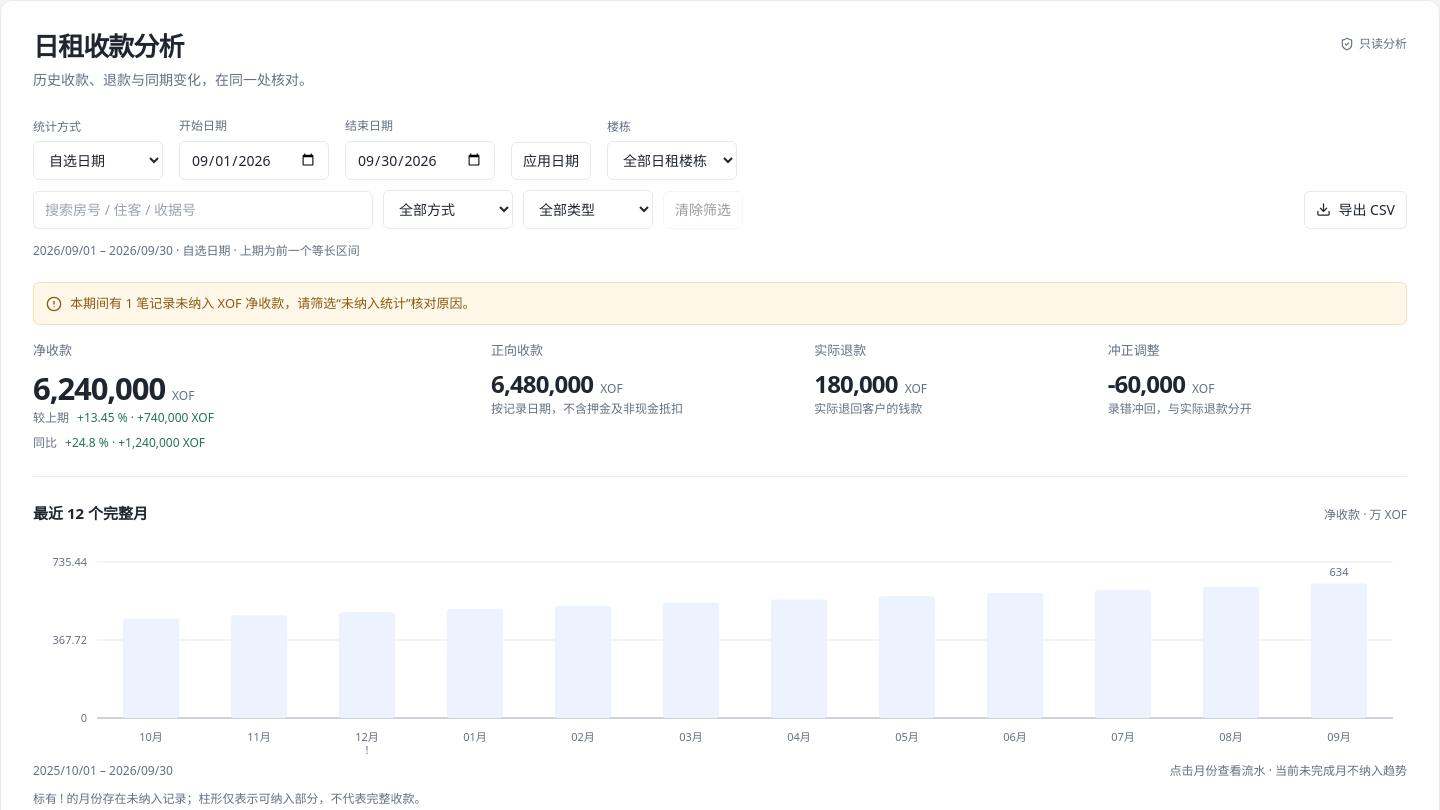
Test case: daily receipt history UI › retains a valid month when changing from a custom period back to monthly mode
Select "按月查看" in the dropdown labelled "统计方式". click: (98, 161)
box: x1=33 y1=141 x2=163 y2=180
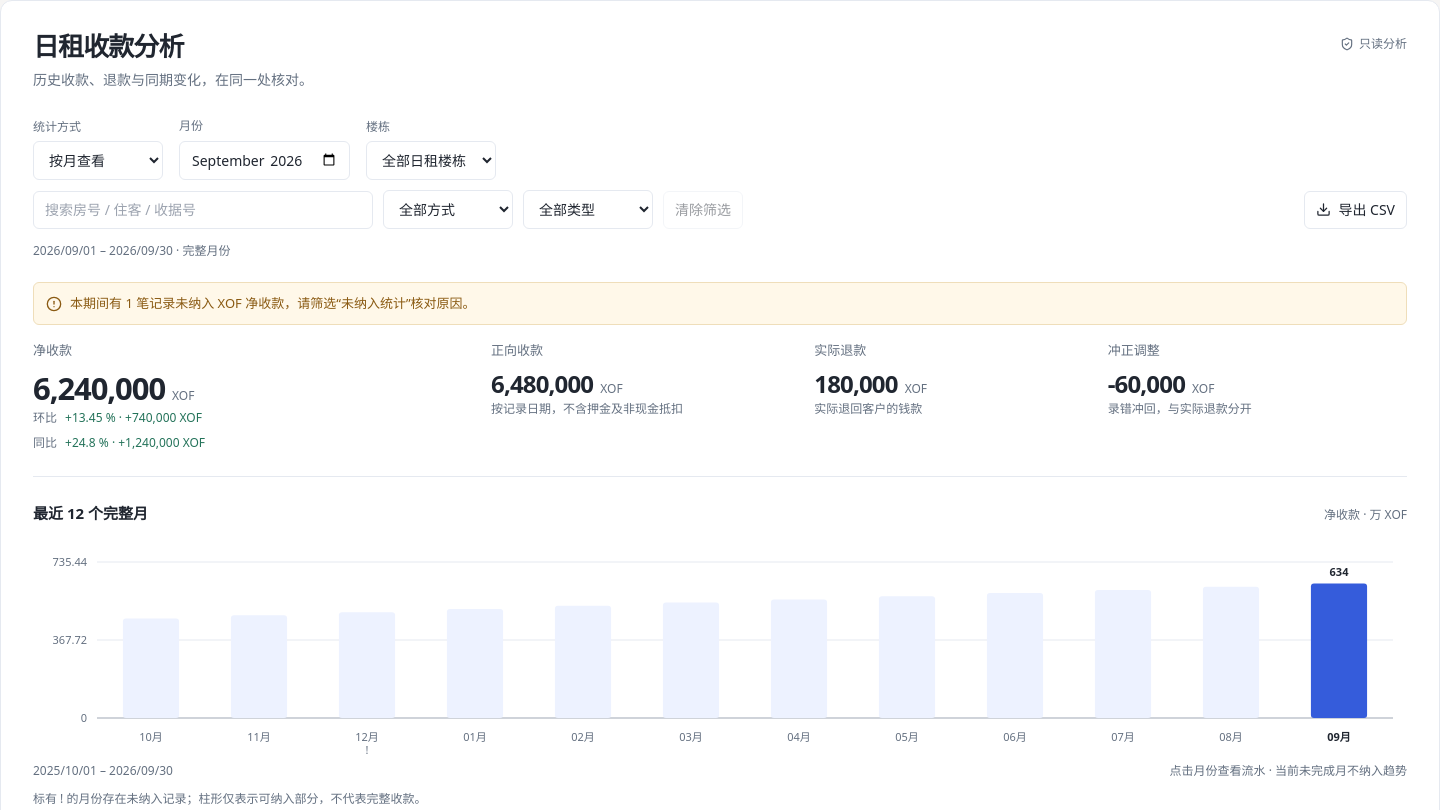
Now the field labelled "月份" holds "2026-09", box x1=179 y1=141 x2=350 y2=180
